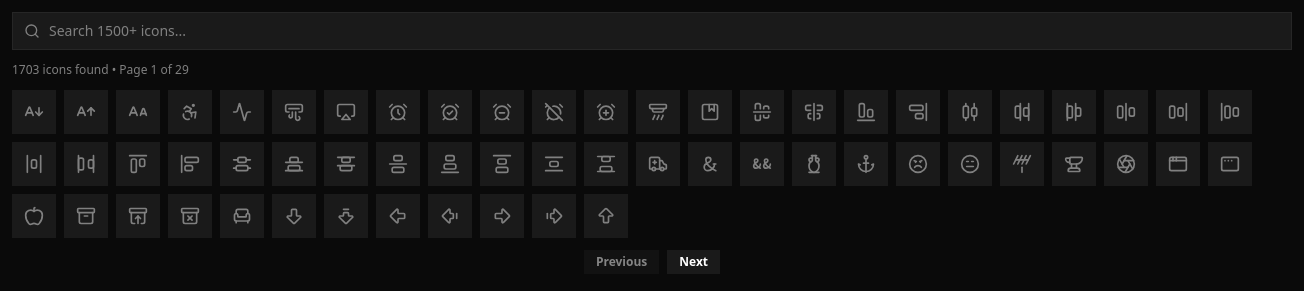
it: IconSelector Component › navigates to next page
Click the button "Next" at (694, 262), box [667,250,720,274]
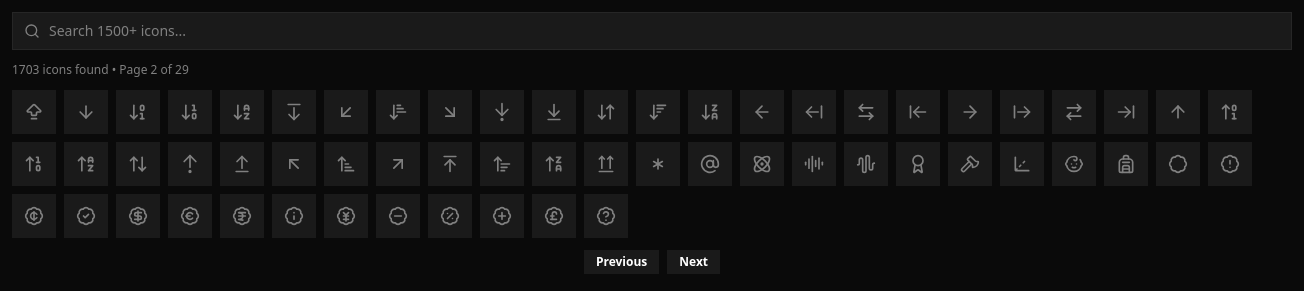
Now the button "Previous" is enabled, box [584,250,659,274]
